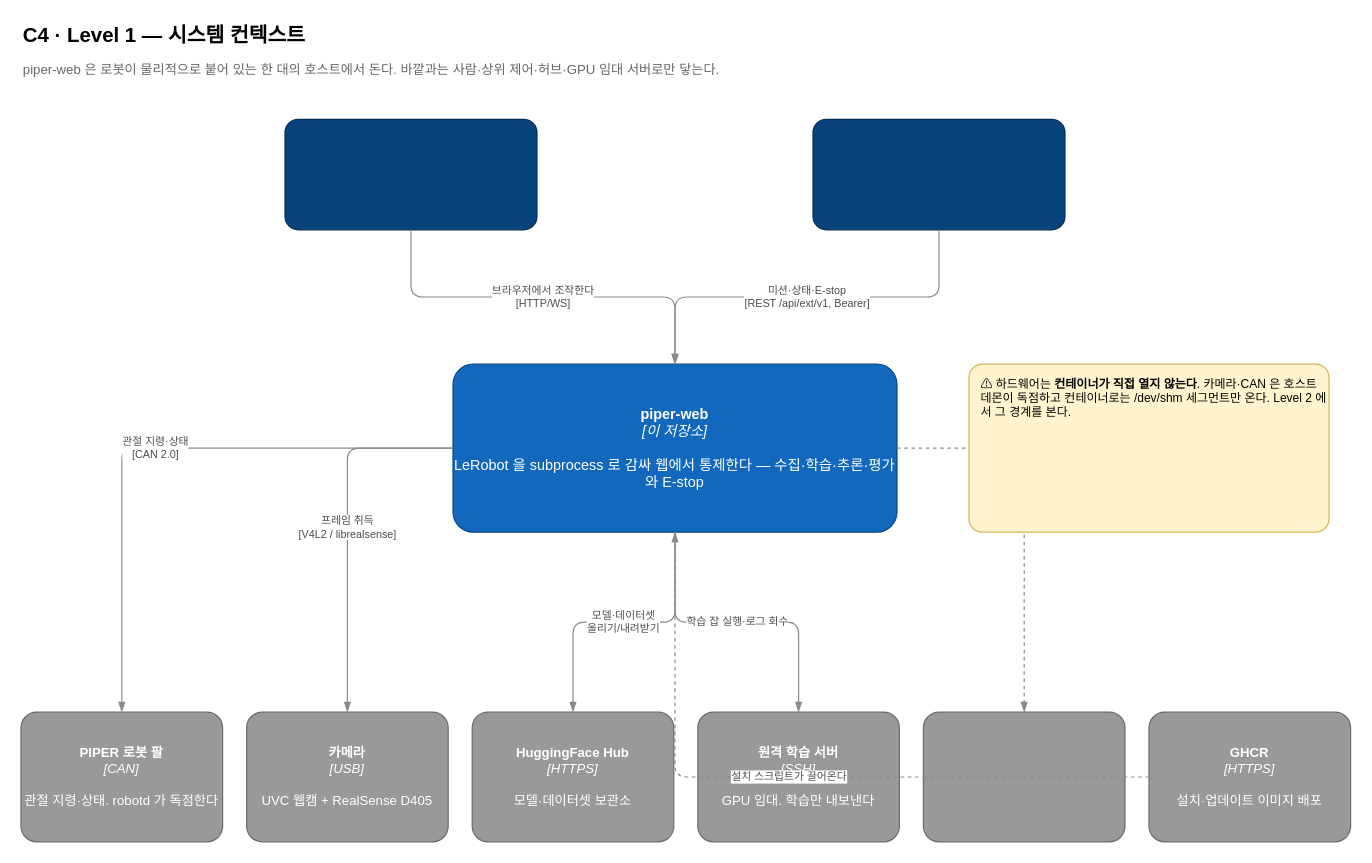
Some shapes in this 1372 by 863 pixel diagram are drawn without their labels. Each missing label, with the centre of its shape:
Anthropic API [HTTPS] 장면 판단 LLM (기본은 로컬 Ollama): pixel 1023 776
상위 제어 시스템 [외부] 미션을 투입하고 상태를 폴링한다: pixel 938 174
조작자 [사람] 팔을 가르치고(수집) 정책을 학습·평가한다: pixel 410 174
